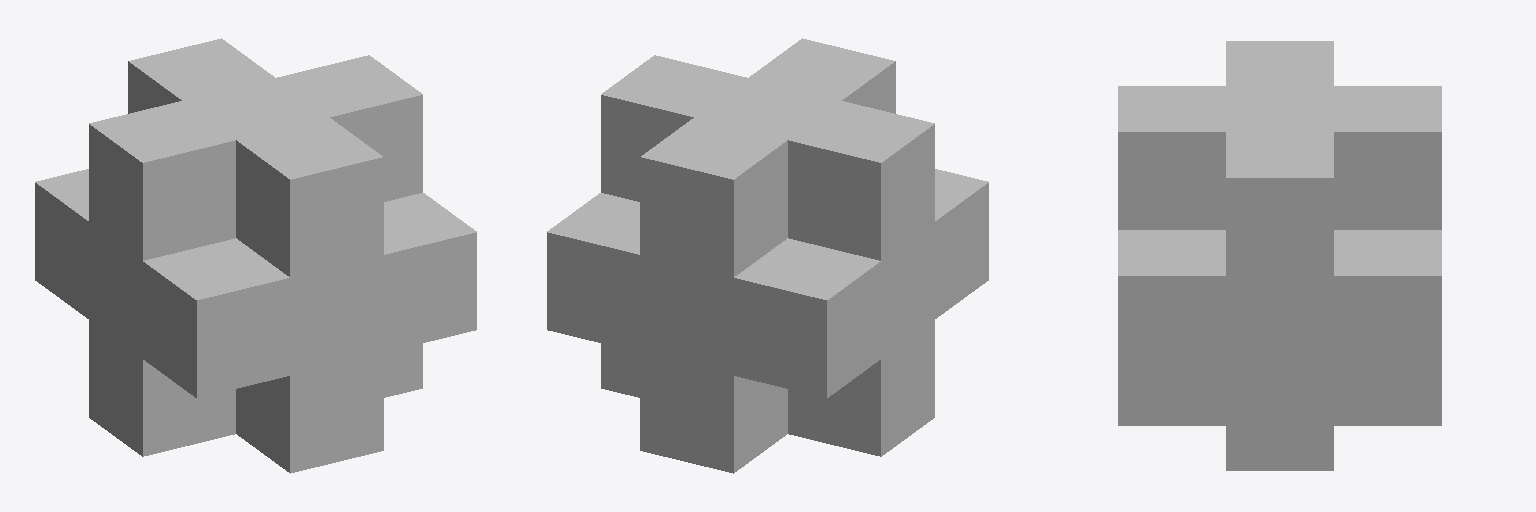
Rendered from fire.obj.
3 views of the same model, side by side, from view 1: azimuth 30°, elevation 25°; view 2: azimuth 150°, elevation 25°; view 3: azimuth 270°, elevation 25° (orthographic).
Visible parts, largest first — view 1: object 1; view 2: object 1; view 3: object 1.
Part boxes in pixels (x1,y1,x2,y2): object 1: (35, 38, 476, 473); object 1: (547, 38, 988, 473); object 1: (1118, 41, 1441, 470).
Bounding box in the file's own units: 0.3 × 0.3 × 0.3.